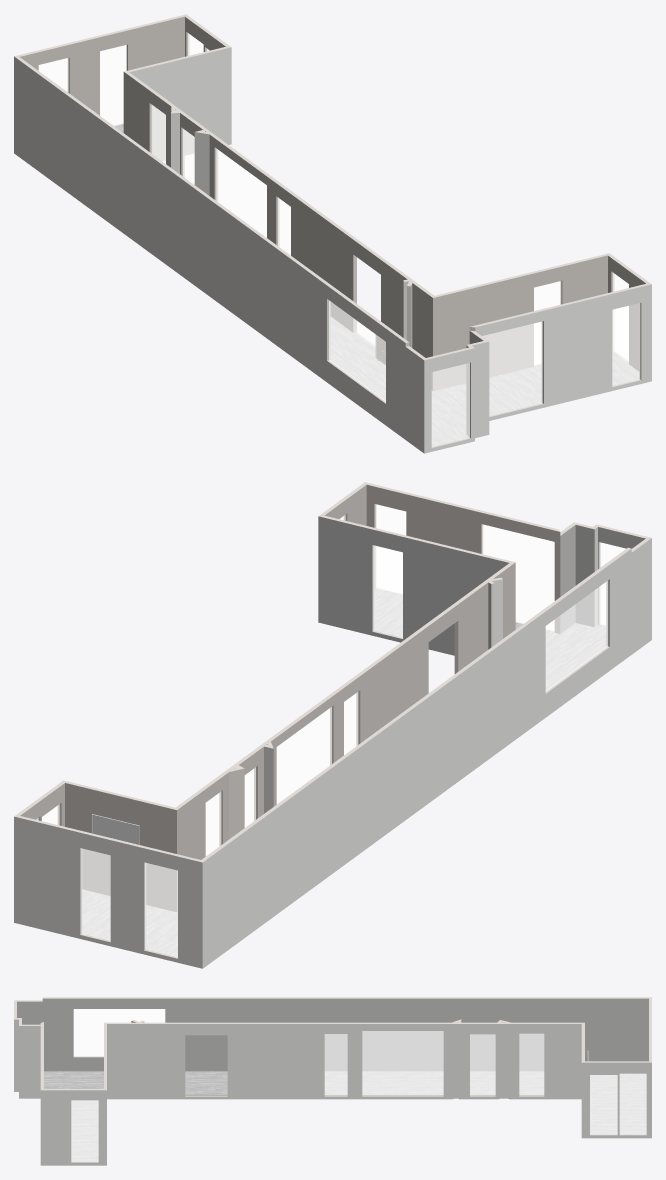
The model's file is MusicHallwayModel.glb.
The picture shows the model from 3 angles, top to bottom: view 1: azimuth 30°, elevation 25°; view 2: azimuth 150°, elevation 25°; view 3: azimuth 270°, elevation 25°; orthographic projection. The views are drawn at different scales.
Visible parts, largest first — view 1: wall_23, wall_45, wall_3, wall_57, wall_22, wall_41, floor_Other_2, door_5, door_18, window_0, window_2, door_12 (+24 smaller); view 2: wall_23, wall_8, wall_10, wall_57, wall_69, wall_31, window_0, window_2, door_5, door_18, floor_Other_2, door_11 (+27 smaller); view 3: wall_71, wall_16, door_11, door_24, floor_Other_1, wall_11, wall_21, floor_Other_3, floor_Other_2, wall_17, window_0, window_2 (+21 smaller).
Boxes of the visible parts, bbox=[...] form: wall_23: bbox=[14, 56, 424, 453]; wall_45: bbox=[433, 255, 607, 390]; wall_3: bbox=[475, 284, 651, 420]; wall_57: bbox=[209, 135, 407, 337]; wall_22: bbox=[129, 47, 231, 160]; wall_41: bbox=[20, 16, 184, 115]; floor_Other_2: bbox=[354, 351, 639, 446]; door_5: bbox=[482, 321, 542, 415]; door_18: bbox=[482, 322, 542, 415]; window_0: bbox=[329, 300, 385, 401]; window_2: bbox=[329, 301, 385, 401]; door_12: bbox=[432, 363, 469, 446]; wall_23: bbox=[202, 538, 651, 968]; wall_8: bbox=[14, 816, 202, 968]; wall_10: bbox=[318, 516, 508, 655]; wall_57: bbox=[271, 582, 488, 806]; wall_69: bbox=[65, 783, 176, 911]; wall_31: bbox=[366, 485, 560, 633]; window_0: bbox=[546, 581, 607, 691]; window_2: bbox=[546, 581, 607, 690]; door_5: bbox=[482, 524, 554, 623]; door_18: bbox=[482, 525, 554, 623]; floor_Other_2: bbox=[373, 588, 605, 689]; door_11: bbox=[277, 707, 331, 803]; wall_71: bbox=[17, 998, 648, 1071]; wall_16: bbox=[140, 1024, 451, 1099]; door_11: bbox=[362, 1031, 443, 1095]; door_24: bbox=[362, 1031, 443, 1095]; floor_Other_1: bbox=[185, 1071, 543, 1095]; wall_11: bbox=[510, 1024, 581, 1099]; wall_21: bbox=[40, 1090, 106, 1165]; floor_Other_3: bbox=[590, 1074, 646, 1134]; floor_Other_2: bbox=[44, 1071, 103, 1161]; wall_17: bbox=[107, 1024, 140, 1099]; window_0: bbox=[74, 1009, 164, 1056]; window_2: bbox=[74, 1009, 164, 1056].
Bounding box in the file's own units: 6.95 × 2.63 × 20.17.
59 materials, 3 textured.
